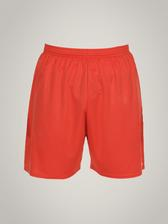clothoes: (22, 40, 151, 179)
